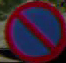No waiting: (1, 2, 63, 58)
